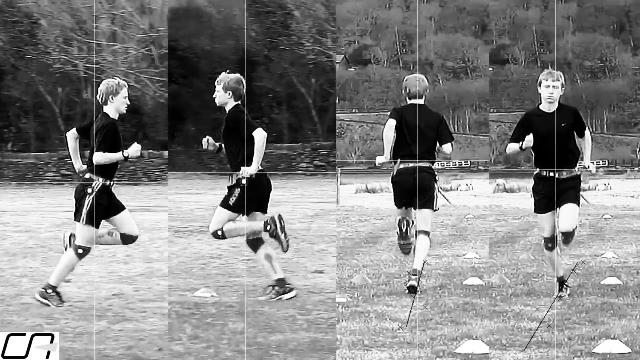berlari: (31, 63, 140, 312), (192, 70, 304, 303), (504, 59, 598, 303), (373, 67, 457, 302)
